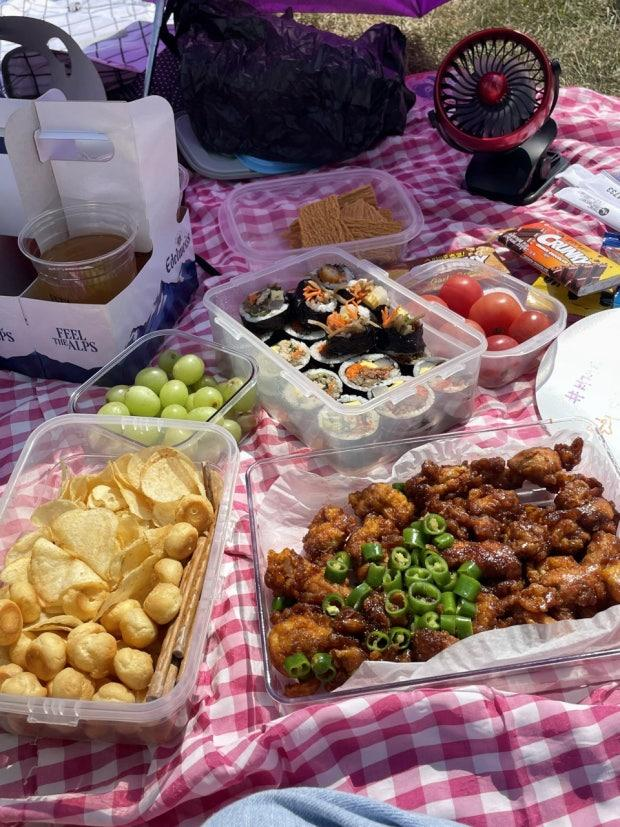Lunch Box: (246, 417, 619, 703), (0, 414, 238, 743), (203, 248, 485, 474), (0, 90, 197, 380), (70, 327, 258, 471), (383, 257, 566, 388), (219, 167, 421, 274)
